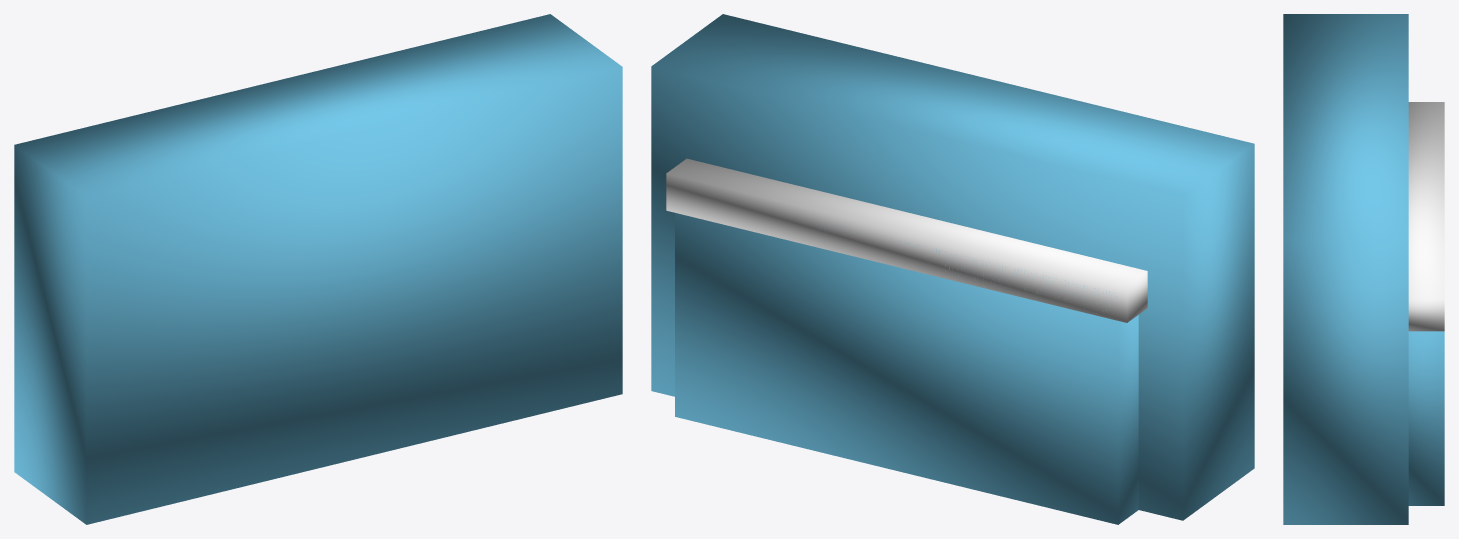
The model's file is ocean_wave.glb.
The picture shows the model from 3 angles, left to right: view 1: azimuth 30°, elevation 25°; view 2: azimuth 150°, elevation 25°; view 3: azimuth 270°, elevation 25°; orthographic projection. The views are drawn at different scales.
Parts seen in each view (by area): view 1: wave_back; view 2: wave_back, wave_front, foam_crest; view 3: wave_back, foam_crest, wave_front.
Part boxes in pixels (left/top/right/bottom): wave_back: left=14, top=14, right=622, bottom=524; wave_back: left=651, top=14, right=1254, bottom=520; wave_front: left=675, top=213, right=1138, bottom=524; foam_crest: left=666, top=158, right=1147, bottom=322; wave_back: left=1283, top=14, right=1408, bottom=524; foam_crest: left=1408, top=102, right=1444, bottom=331; wave_front: left=1408, top=331, right=1444, bottom=505.
Bounding box in the file's own units: 0.6 × 0.35 × 0.18.
